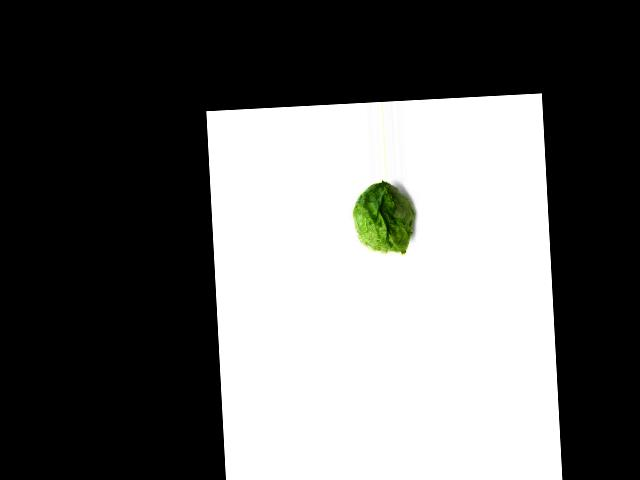lettuce: (346, 180, 420, 255)
